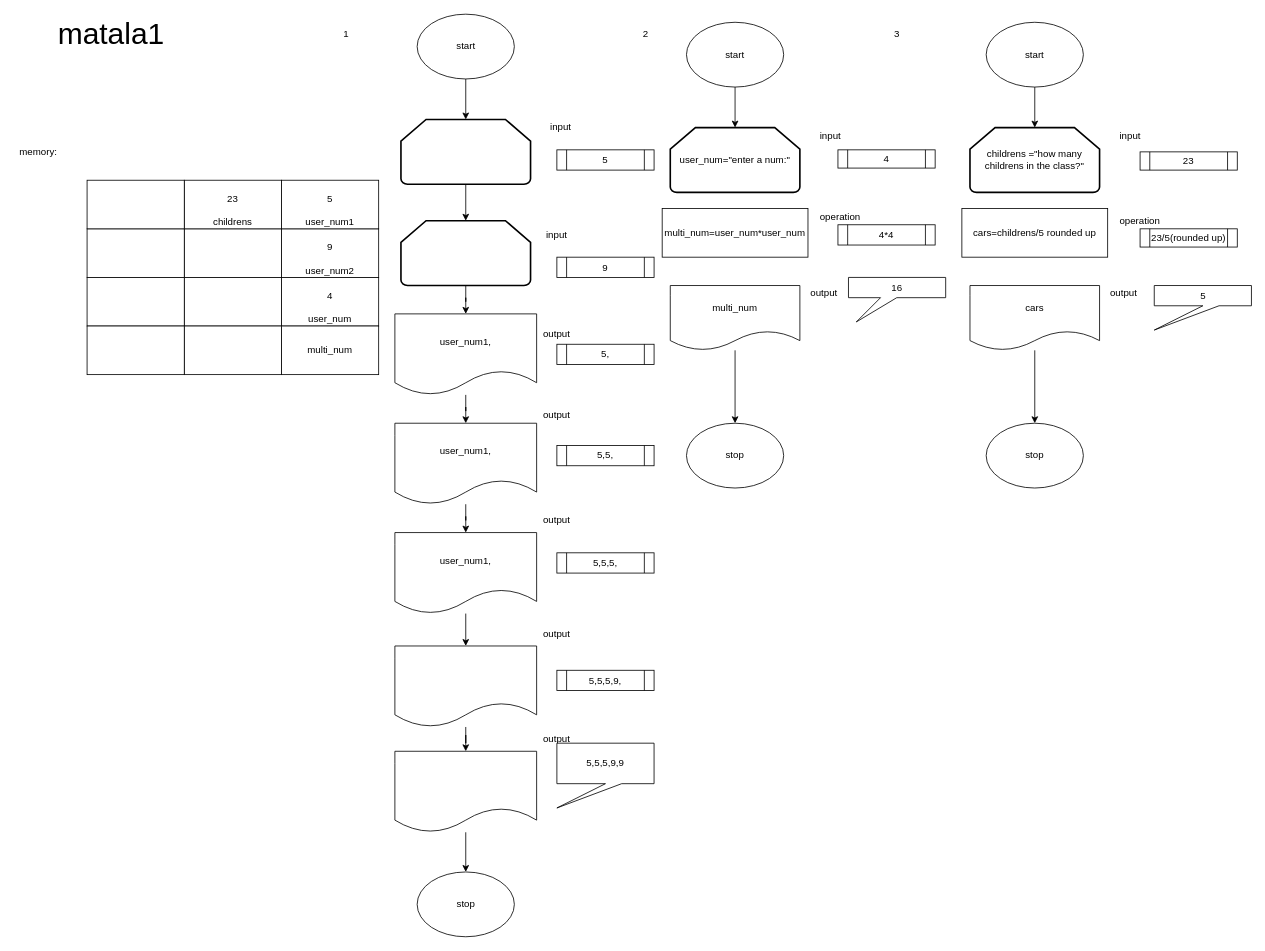
Some shapes in this 1265 by 951 pixel diagram are drawn without their labels. The shapes that lost their labels are listed below. From the top down, each one's centre as x and y in pixels, then its label:
(465,151): user_num1="enter a num:"
(465,253): user_num2="enter a num:"
(465,686): user_num2,
(465,791): user_num2
